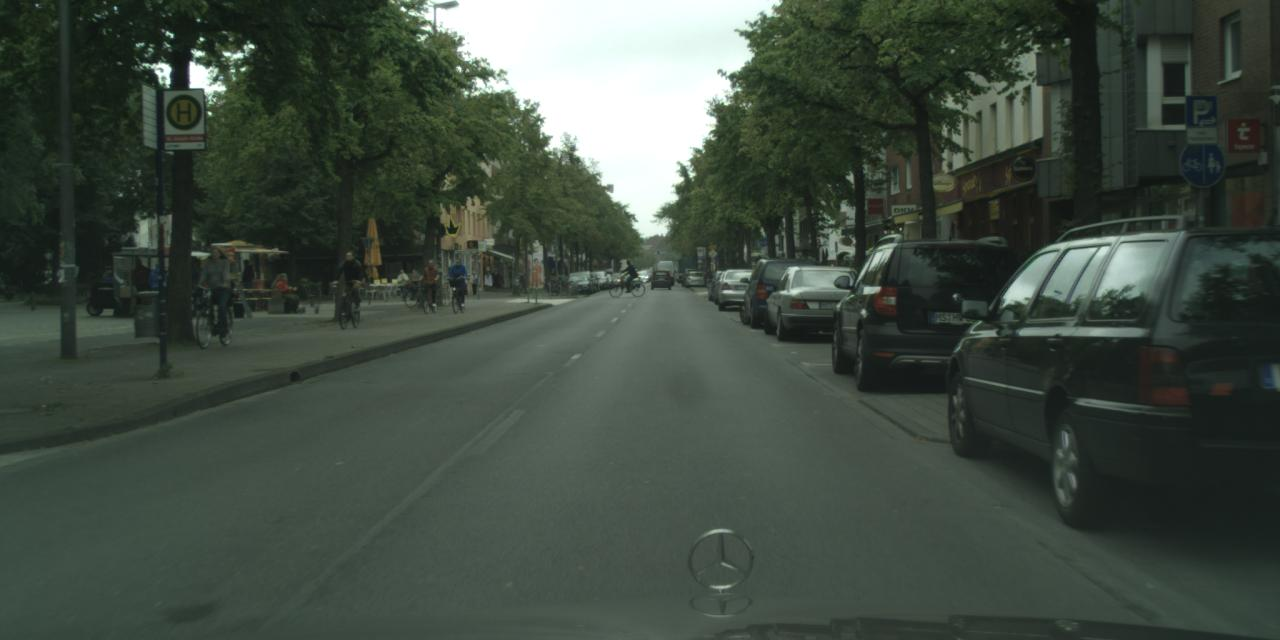ped: (199, 247, 233, 331), (338, 250, 363, 314), (129, 258, 152, 314), (148, 260, 170, 314), (188, 256, 208, 306), (448, 257, 468, 305), (237, 259, 256, 306), (420, 258, 439, 304), (396, 269, 408, 300), (622, 260, 634, 290), (408, 269, 420, 298), (469, 270, 479, 294)
